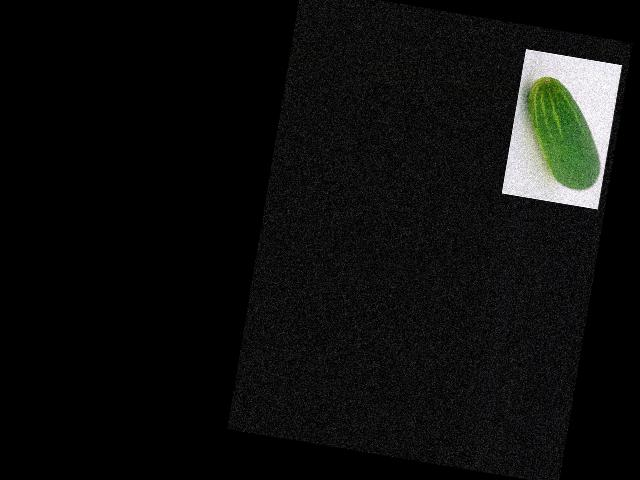cucumber: (514, 74, 613, 193)
